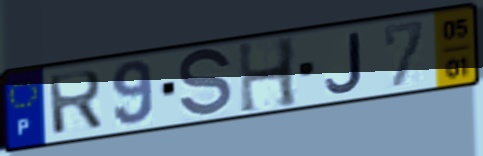7: (382, 18, 426, 91)
9: (108, 57, 156, 129)
H: (235, 34, 301, 116)
J: (323, 30, 365, 95)
R: (45, 67, 106, 138)
S: (176, 45, 235, 122)
